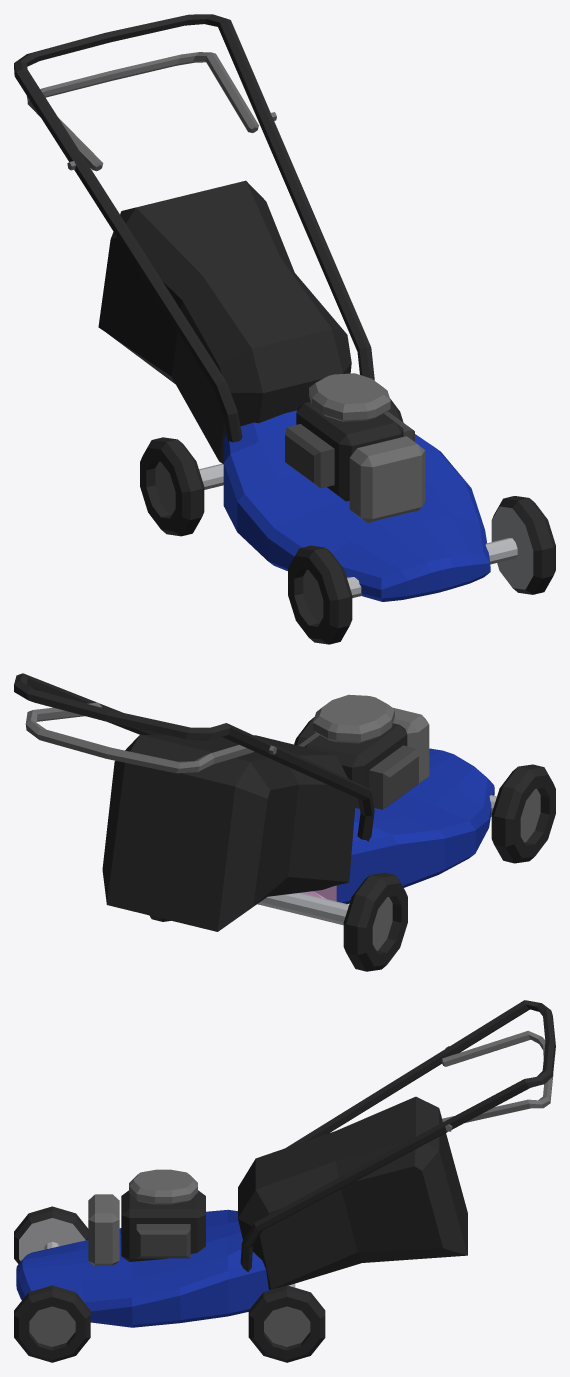
Rendered from Mower.fbx.
3 views of the same model, one above another, from view 1: azimuth 30°, elevation 25°; view 2: azimuth 150°, elevation 25°; view 3: azimuth 270°, elevation 25° (orthographic). The views are drawn at different scales.
Visible parts, largest first — view 1: Mover_body, Wheels_front, Wheels_back; view 2: Mover_body, Wheels_back, Wheels_front; view 3: Mover_body, Wheels_front, Wheels_back.
Part boxes in pixels (x1,y1,x2,y2): Mover_body: [14, 14, 490, 601]; Wheels_front: [288, 496, 555, 644]; Wheels_back: [140, 398, 403, 536]; Mover_body: [14, 673, 494, 931]; Wheels_back: [149, 872, 407, 971]; Wheels_front: [294, 717, 555, 863]; Mover_body: [16, 1000, 555, 1327]; Wheels_front: [14, 1206, 90, 1362]; Wheels_back: [248, 1283, 325, 1362].
Size of the model in its own units: 62.99 by 94.34 by 165.
